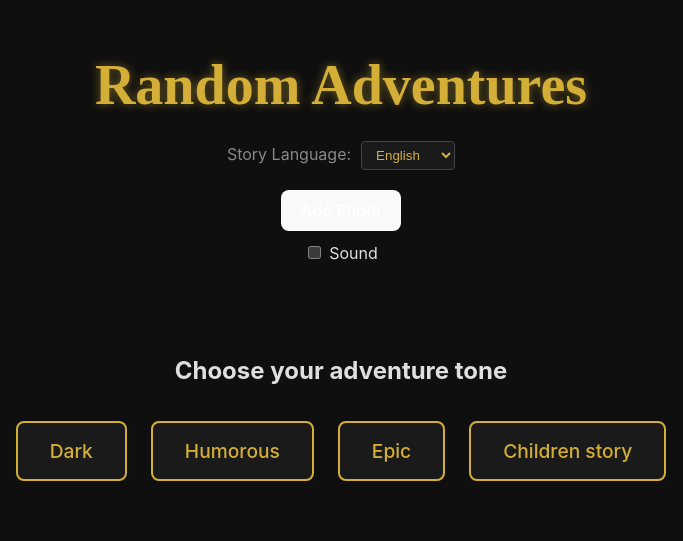
Scenario: App Component › renders the camera toggle and shows camera when clicked
Note: Click toggle to show camera
Step 1. Click the button "Add Photo" → [341, 210], box top-left (281, 190), bottom-right (401, 231)
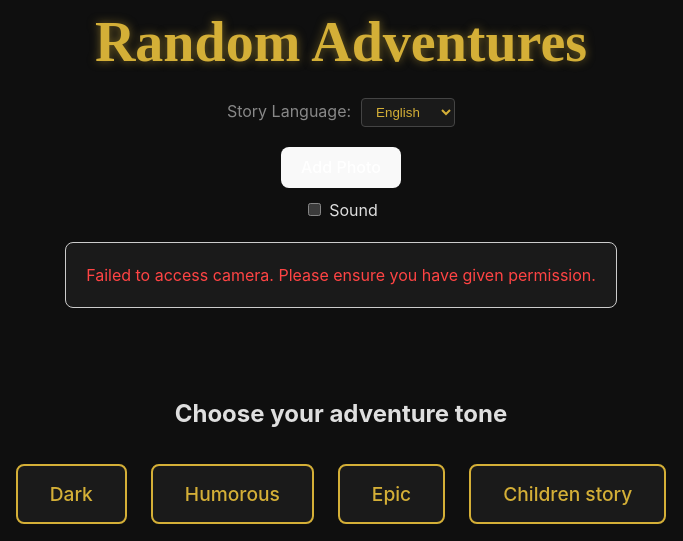
Check: the element with test id "camera-container" is shown, box top-left (65, 242), bottom-right (617, 308)
